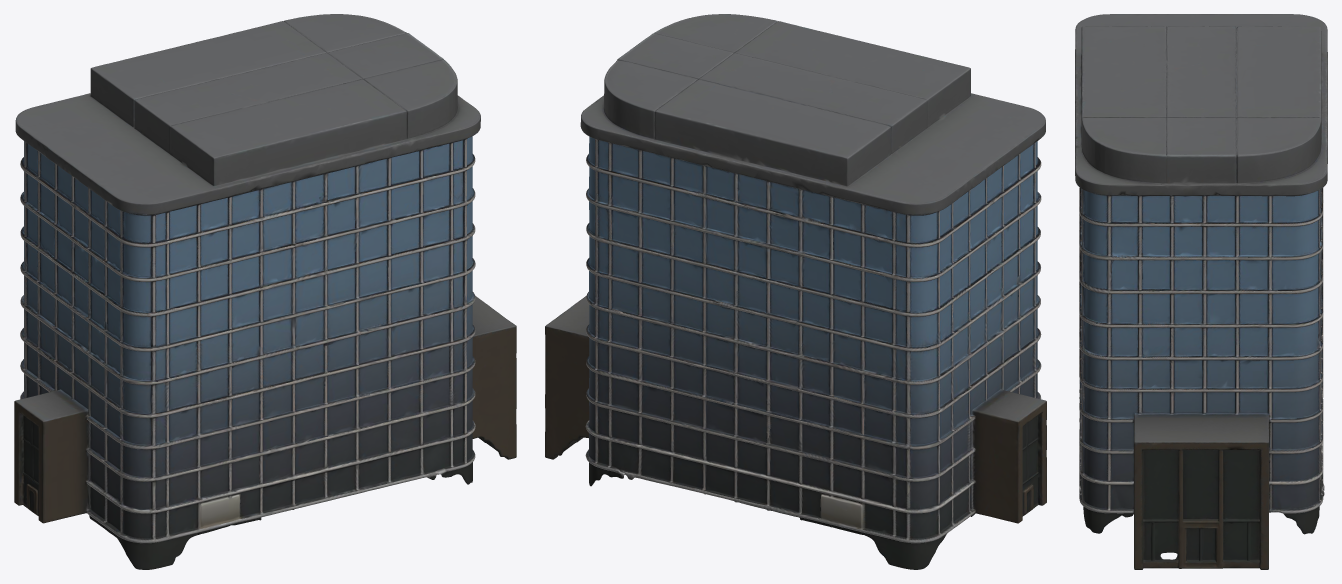
File: f2234d20-6efc-46f0-ba84-7fdb8d98a0c8.glb
3 renders of one model, left to right at view 1: azimuth 30°, elevation 25°; view 2: azimuth 150°, elevation 25°; view 3: azimuth 270°, elevation 25°, orthographic. The views are drawn at different scales.
Parts seen in each view (by area): view 1: tripo_node_05b9459d-6c0a-4c8d-916b-1af02f1cbe75; view 2: tripo_node_05b9459d-6c0a-4c8d-916b-1af02f1cbe75; view 3: tripo_node_05b9459d-6c0a-4c8d-916b-1af02f1cbe75.
Part boxes in pixels (box(x1,y1,x2,y2)): tripo_node_05b9459d-6c0a-4c8d-916b-1af02f1cbe75: box(14, 14, 516, 569); tripo_node_05b9459d-6c0a-4c8d-916b-1af02f1cbe75: box(545, 14, 1046, 569); tripo_node_05b9459d-6c0a-4c8d-916b-1af02f1cbe75: box(1075, 14, 1327, 569).
Bounding box in the file's own units: 1 × 0.8436 × 0.4982.
1 material, 1 textured.
